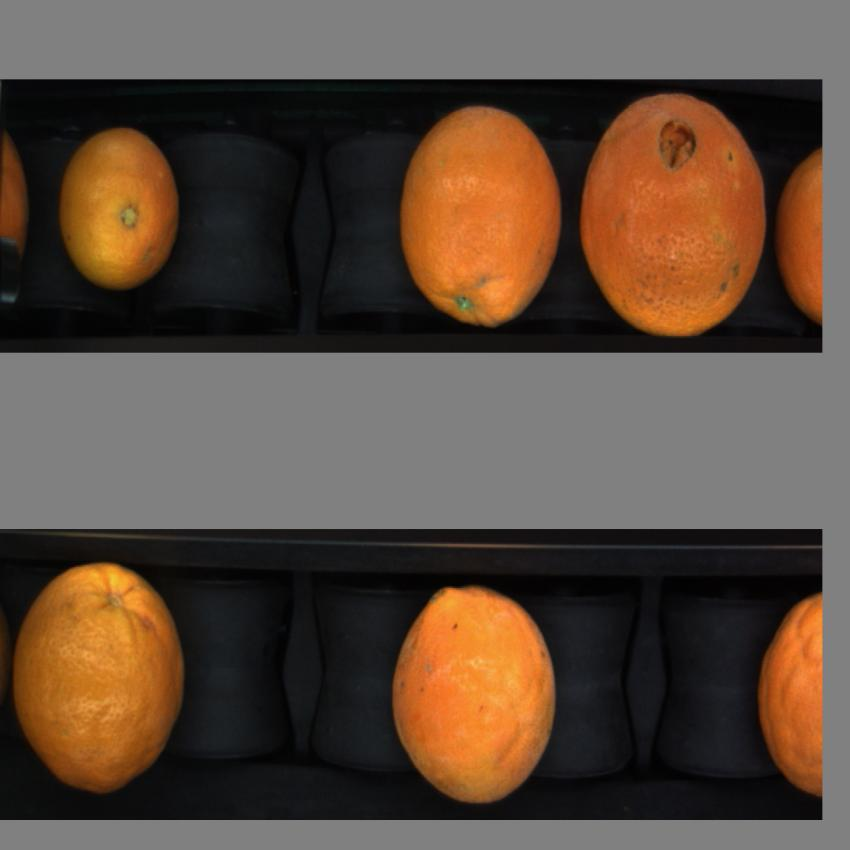Buen estado: (580, 97, 770, 336), (12, 556, 193, 798), (396, 101, 564, 334), (53, 123, 189, 295), (756, 580, 820, 801), (778, 146, 821, 326)
Mal estado: (390, 579, 565, 805)
